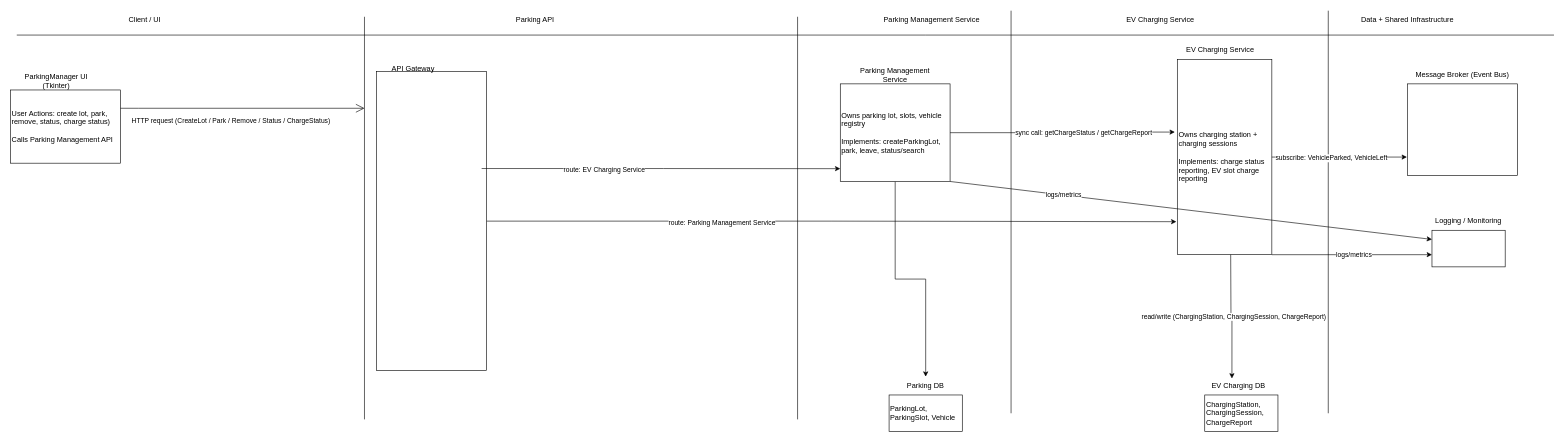
The diagram is 1565 pixels wide and 442 high, and some of its shapes have lost their labels. The box of each missing label's shape, as (x1, y1, x2, y2) in pixels:
Async events between services: (1407, 83, 1517, 175)
Routes requests to services Auth/validation (optional): (376, 71, 486, 371)
